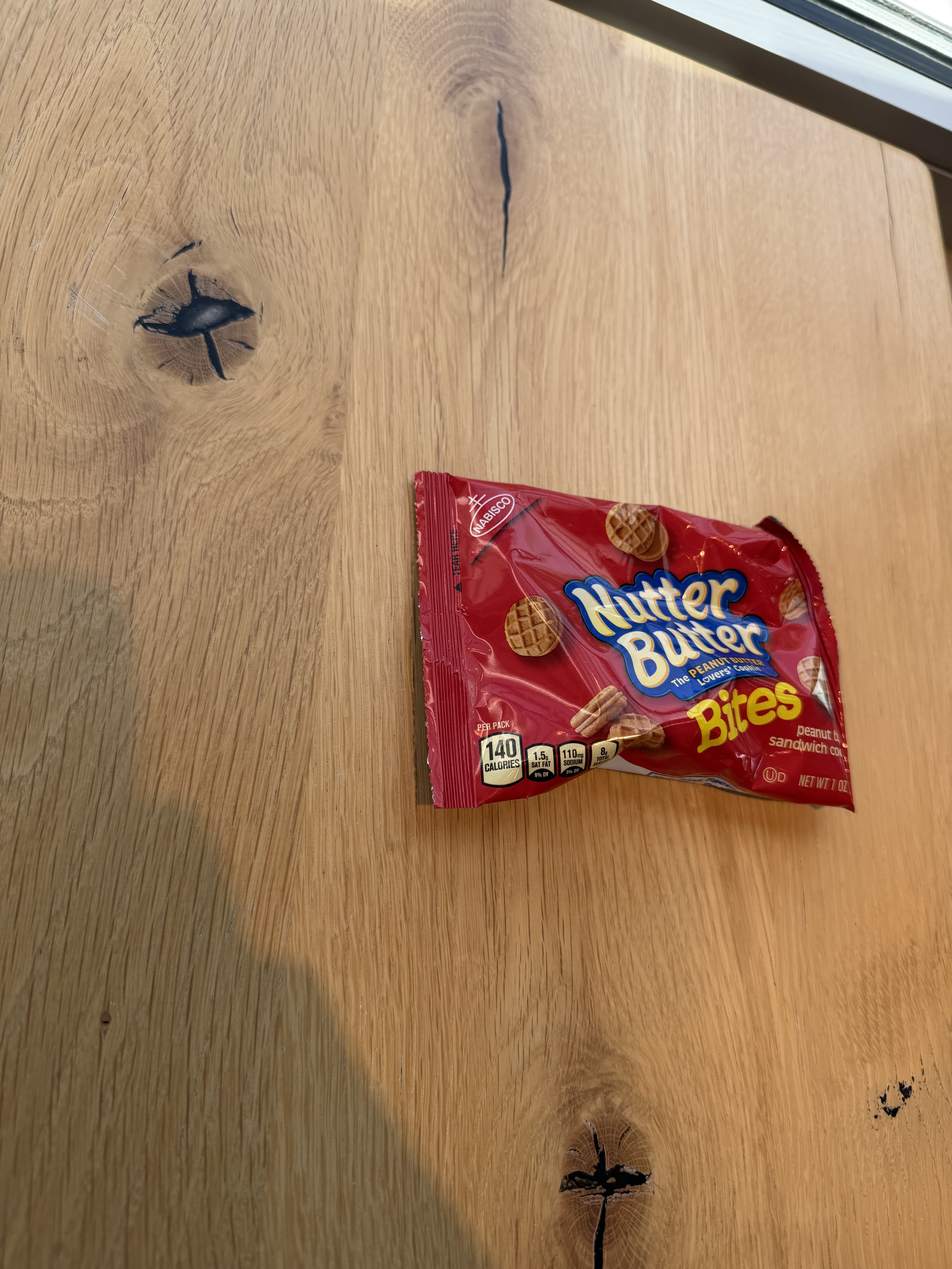nutter_butter: (364, 429, 876, 828)
